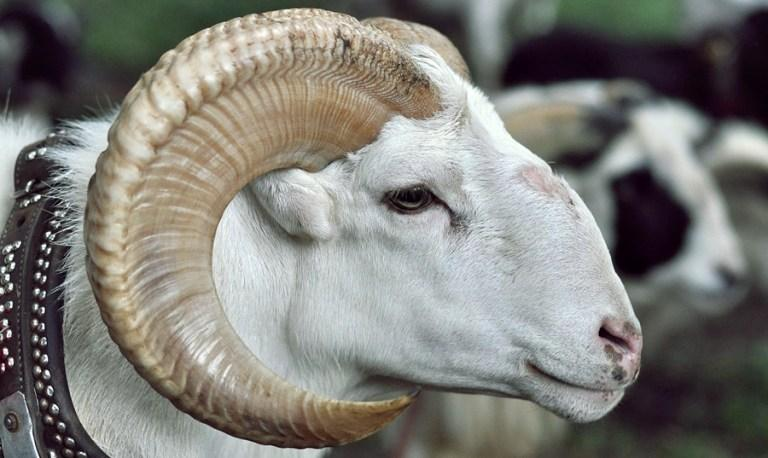Sheep: (86, 0, 649, 458)
